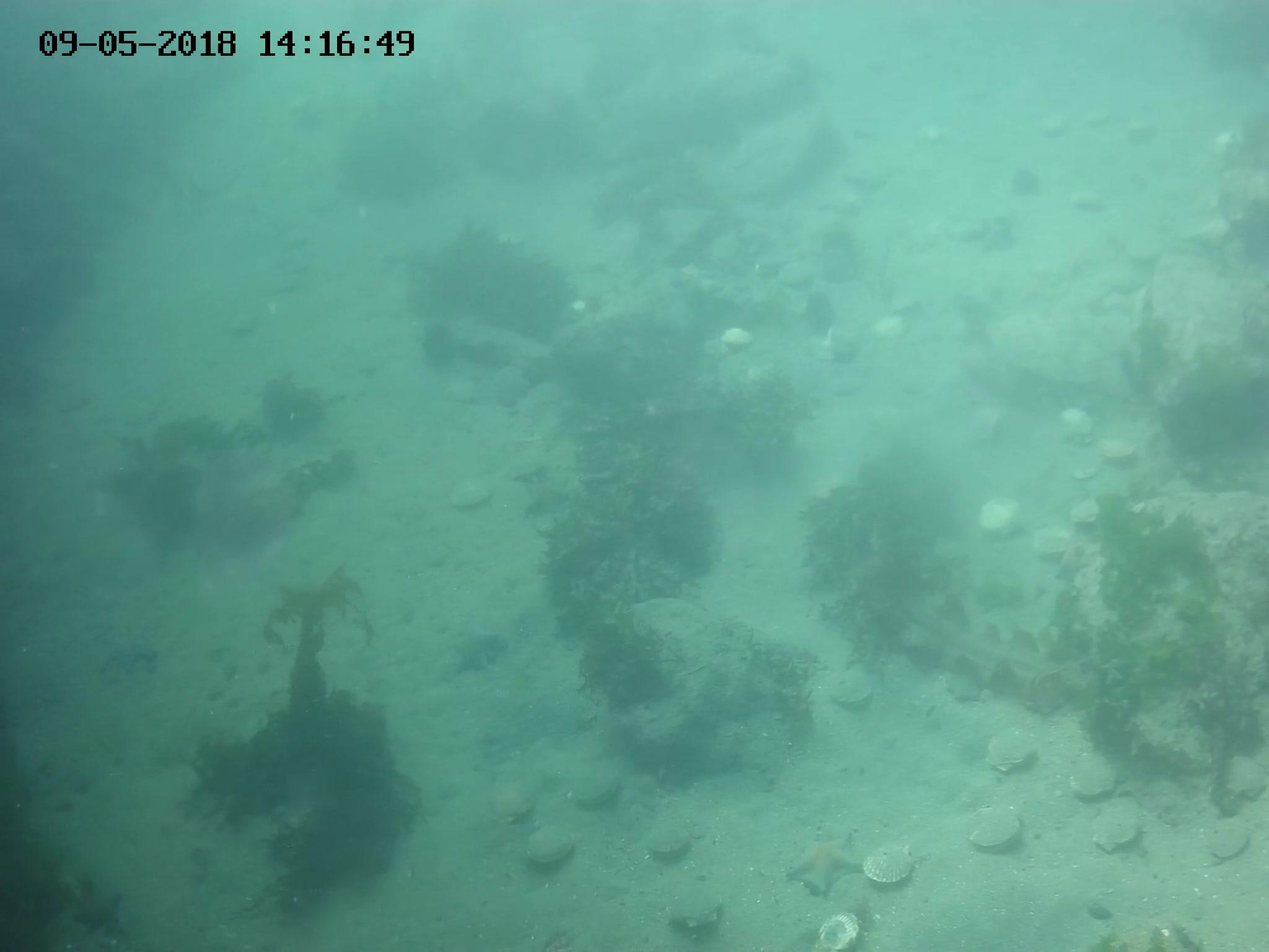holothurian: (788, 832, 863, 894)
scallop: (961, 804, 1023, 850), (984, 731, 1042, 778), (1206, 813, 1255, 865), (864, 842, 918, 886), (1092, 801, 1140, 850), (827, 665, 874, 712), (669, 889, 727, 927), (527, 823, 576, 867), (812, 909, 862, 952), (639, 820, 692, 858), (978, 491, 1020, 534), (1035, 521, 1080, 560), (449, 474, 493, 506), (1103, 436, 1140, 463), (1073, 497, 1102, 521)
